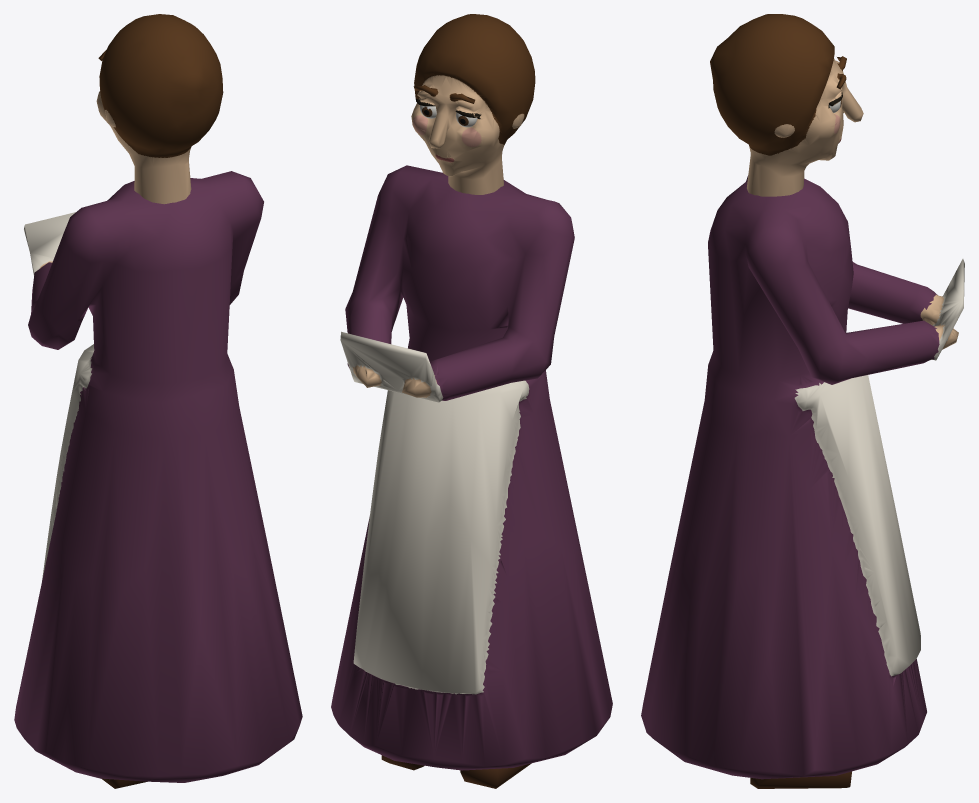
Rendered from ruth.glb.
3 renders of one model, left to right at view 1: azimuth 30°, elevation 25°; view 2: azimuth 150°, elevation 25°; view 3: azimuth 270°, elevation 25°, orthographic. The views are drawn at different scales.
Parts seen in each view (by area): view 1: body_lod0, head_lod0; view 2: body_lod0, head_lod0; view 3: body_lod0, head_lod0.
Boxes of the visible parts, x1,y1,x2,y2 form: body_lod0: (14, 171, 302, 788); head_lod0: (96, 14, 223, 204); body_lod0: (331, 165, 612, 788); head_lod0: (411, 14, 535, 194); body_lod0: (641, 175, 964, 788); head_lod0: (710, 14, 863, 196).
Size of what is drawn, in the model's own units: 0.6632 by 1.91 by 0.7496.
